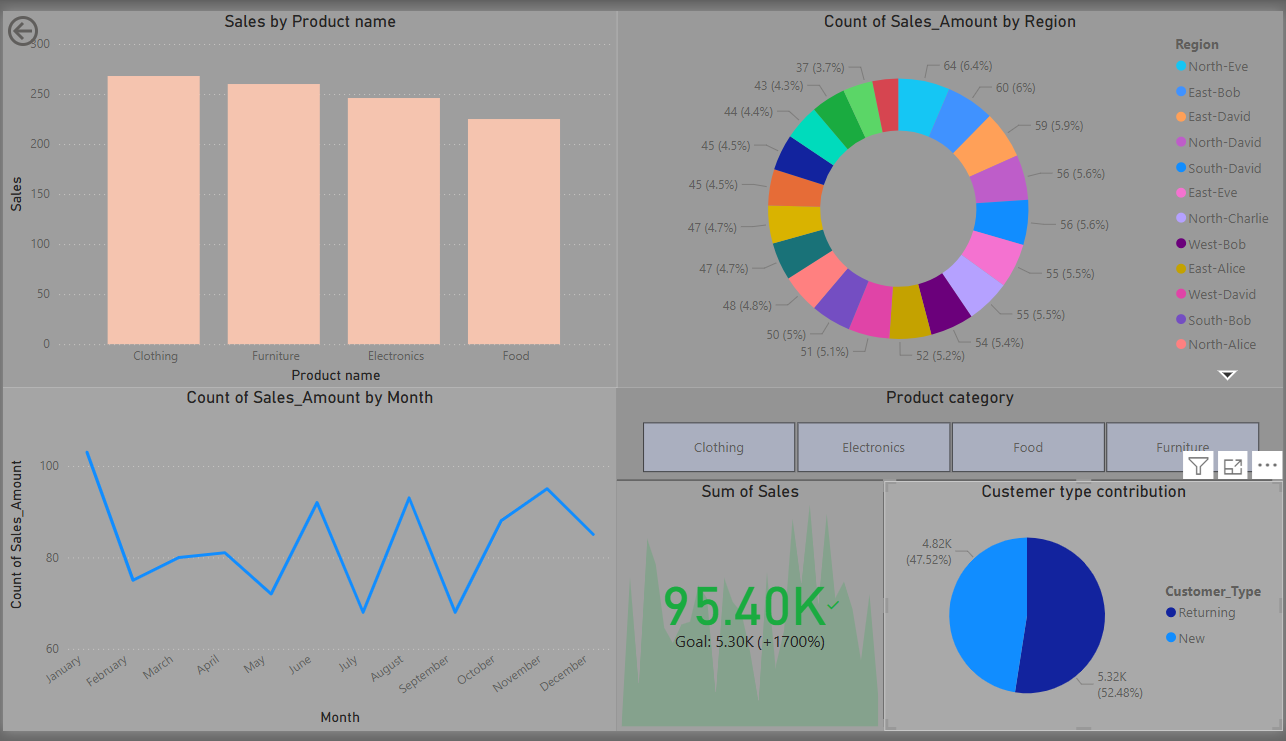

What the dashboard file says about the page in this screenshot:
{"tool":"powerbi","page":{"name":"Page 1","canvas":[1280,720],"ordinal":0},"visuals":[{"type":"columnChart","fields":{"Y":["Count(sales_data.Sales_Amount)"],"Category":["sales_data.Product_Category"]},"box":[0,0,614.3,377.1],"z":0},{"type":"donutChart","fields":{"Category":["sales_data.Region_and_Sales_Rep"],"Y":["Count(sales_data.Sales_Amount)"]},"box":[613.9,0,666.4,376.6],"z":1000},{"type":"lineChart","fields":{"Category":["sales_data.Sale_Date.Variation.Date Hierarchy.Month"],"Y":["Count(sales_data.Sales_Amount)"]},"box":[0,376.6,613.9,343.6],"z":2000},{"type":"slicer","title":"Product category","fields":{"Values":["sales_data.Product_Category"]},"box":[613.9,376.6,666.4,91.7],"z":3000},{"type":"kpi","title":"Sum of Sales ","fields":{"Indicator":["Sum(sales_data.Sales_Amount)"],"TrendLine":["sales_data.Discount"],"Goal":["Avg(sales_data.Sales_Amount)"]},"box":[613.9,469.6,266.6,250.7],"z":4000},{"type":"pieChart","title":"Custemer type contribution","fields":{"Category":["sales_data.Customer_Type"],"Y":["Avg(sales_data.Sales_Amount)"]},"box":[881,470,399,250],"z":5000},{"type":"actionButton","box":[0,0,100,40],"z":5001}]}

Visuals, with their boxes in screenshot pixels (x1, y1, x2, y2), scaled from the page's 1280x720 canvas onto the 1286x741 screenshot:
columnChart - Count(sales_data.Sales_Amount) x sales_data.Product_Category: l=0, t=0, r=617, b=388
donutChart - sales_data.Region_and_Sales_Rep x Count(sales_data.Sales_Amount): l=617, t=0, r=1285, b=388
lineChart - sales_data.Sale_Date.Variation.Date Hierarchy.Month x Count(sales_data.Sales_Amount): l=0, t=388, r=617, b=740
"Product category" slicer: l=617, t=388, r=1285, b=482
"Sum of Sales " kpi: l=617, t=483, r=885, b=740
"Custemer type contribution" pieChart: l=885, t=484, r=1285, b=740
actionButton: l=0, t=0, r=100, b=41
